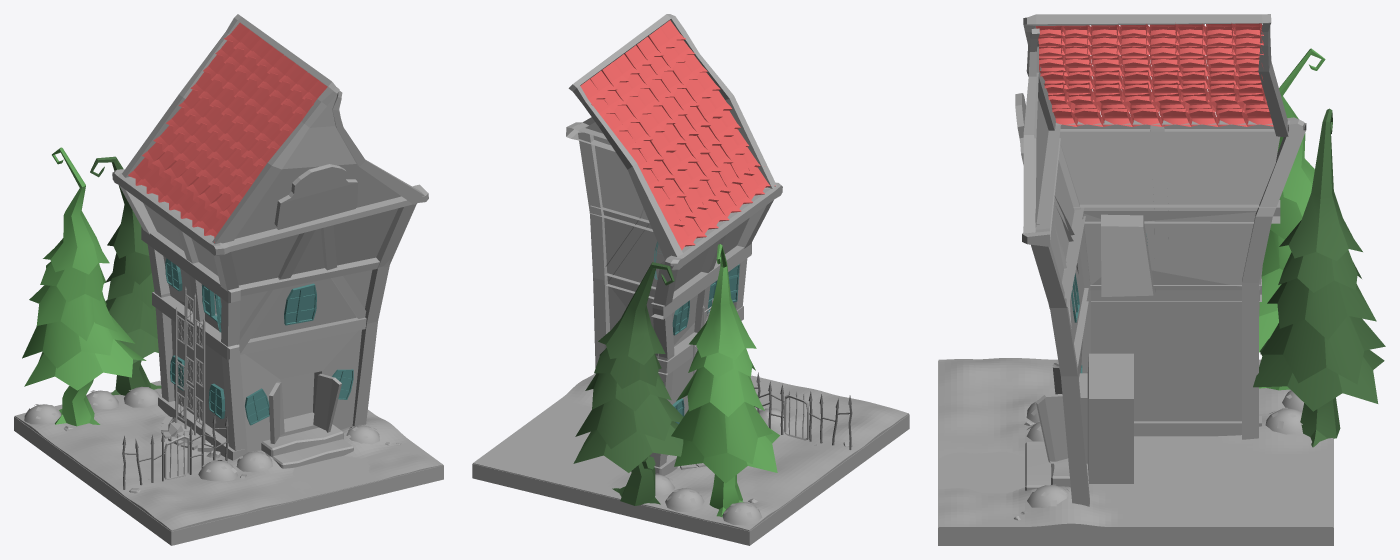
Rendered from Taverne_ext_v1.fbx.
3 views of the same model, side by side, from view 1: azimuth 30°, elevation 25°; view 2: azimuth 150°, elevation 25°; view 3: azimuth 270°, elevation 25° (orthographic). The views are drawn at different scales.
Visible parts, largest first — view 1: taverne, Tuiles1, sol20, sapin4, sol3, sapin5, Fenetre, escalier_ext2, chemin_taverne, Barriere, treillis_metallique_lierre, Potager (+7 smaller); view 2: taverne, Tuiles1, sol20, sapin4, sapin5, sol3, Fenetre, Barriere, Buisson5, Buisson7, Portail; view 3: taverne, sol20, Tuiles1, sapin5, sol3, sapin4, chemin_taverne, escalier_ext2, Buisson4, Buisson3.
Part boxes in pixels (x1=…): taverne: x1=112, y1=14, x2=428, y2=460; Tuiles1: x1=128, y1=22, x2=327, y2=242; sol20: x1=14, y1=380, x2=442, y2=531; sapin4: x1=22, y1=147, x2=146, y2=426; sol3: x1=14, y1=416, x2=443, y2=545; sapin5: x1=90, y1=156, x2=161, y2=395; Fenetre: x1=165, y1=258, x2=353, y2=425; escalier_ext2: x1=261, y1=424, x2=353, y2=468; chemin_taverne: x1=292, y1=455, x2=379, y2=491; Barriere: x1=122, y1=413, x2=228, y2=489; treillis_metallique_lierre: x1=184, y1=287, x2=195, y2=435; Potager: x1=161, y1=416, x2=213, y2=452; taverne: x1=566, y1=14, x2=782, y2=475; Tuiles1: x1=580, y1=20, x2=775, y2=250; sol20: x1=473, y1=373, x2=908, y2=531; sapin4: x1=671, y1=244, x2=779, y2=517; sapin5: x1=573, y1=262, x2=683, y2=505; sol3: x1=472, y1=414, x2=909, y2=545; Fenetre: x1=654, y1=241, x2=739, y2=423; Barriere: x1=754, y1=372, x2=852, y2=449; Buisson5: x1=665, y1=488, x2=704, y2=512; Buisson7: x1=722, y1=502, x2=762, y2=525; Portail: x1=784, y1=391, x2=809, y2=440; taverne: x1=1015, y1=14, x2=1306, y2=506; sol20: x1=938, y1=358, x2=1333, y2=527; Tuiles1: x1=1035, y1=23, x2=1273, y2=126; sapin5: x1=1253, y1=108, x2=1385, y2=447; sol3: x1=938, y1=360, x2=1333, y2=545; sapin4: x1=1259, y1=48, x2=1325, y2=390; chemin_taverne: x1=939, y1=451, x2=1024, y2=493; escalier_ext2: x1=1025, y1=442, x2=1070, y2=490; Buisson4: x1=1265, y1=407, x2=1302, y2=434; Buisson3: x1=1027, y1=484, x2=1069, y2=507.
Bounding box in the file's own units: 887 × 1086 × 905.
